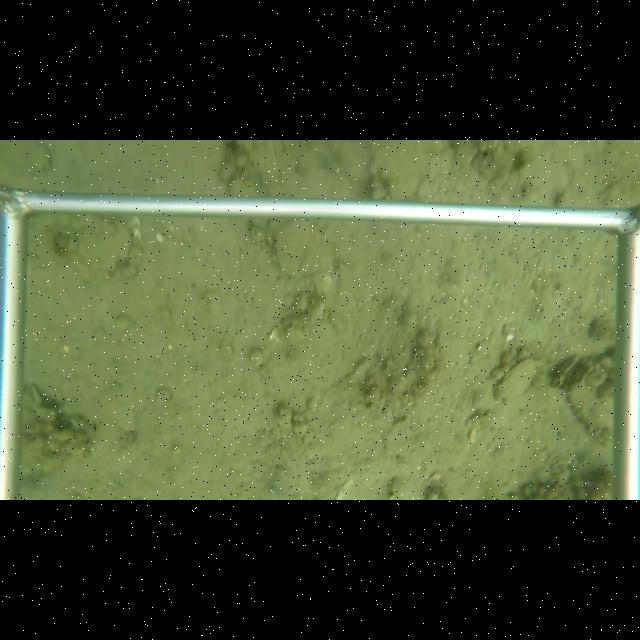Oyster-Closed: (268, 219, 338, 282), (488, 355, 538, 402)
